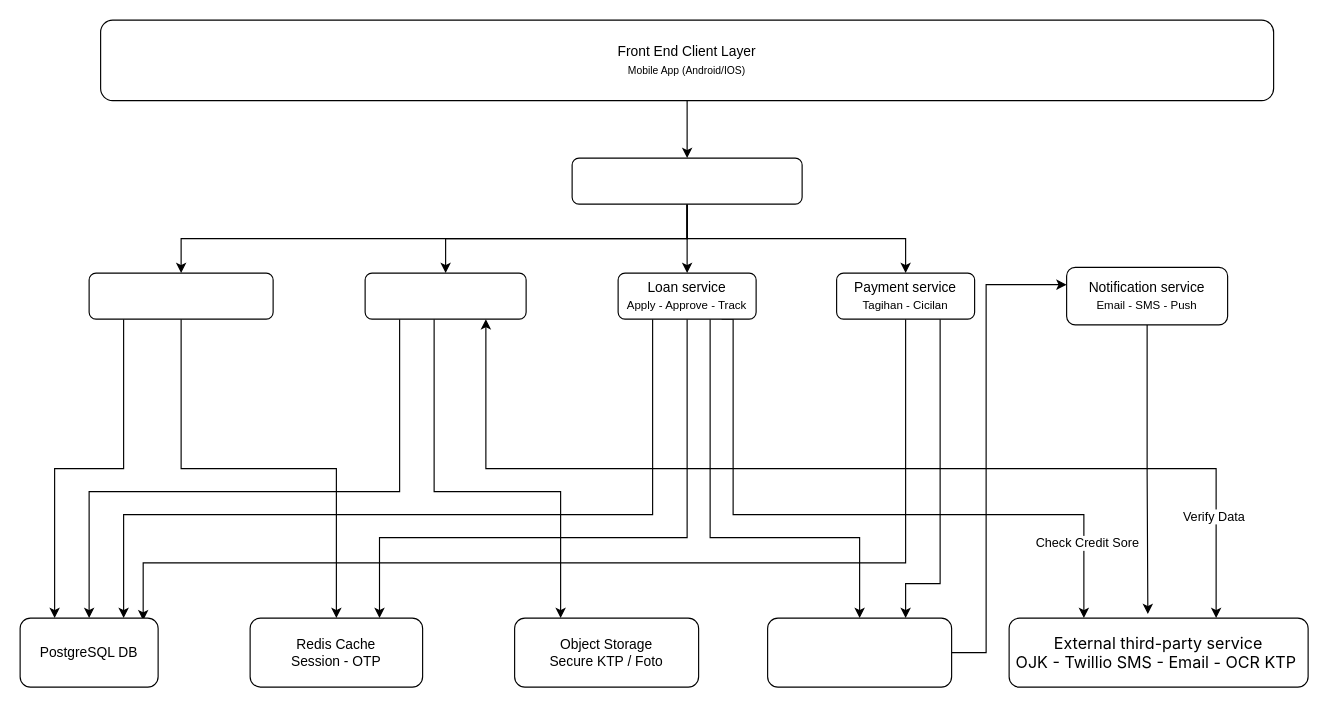
Image size: 1328x707. Some labels were removed from this diagram. Here are the shapes that lost their labels. From the top down, the box of each, then its label:
(571, 157, 802, 204): API Gateway
(88, 272, 273, 319): Auth Service Login - Biometric - JWT
(364, 272, 526, 319): User service KYC - Profile - KTP
(766, 617, 952, 687): Message Queue System RabbitMQ/Kafka
